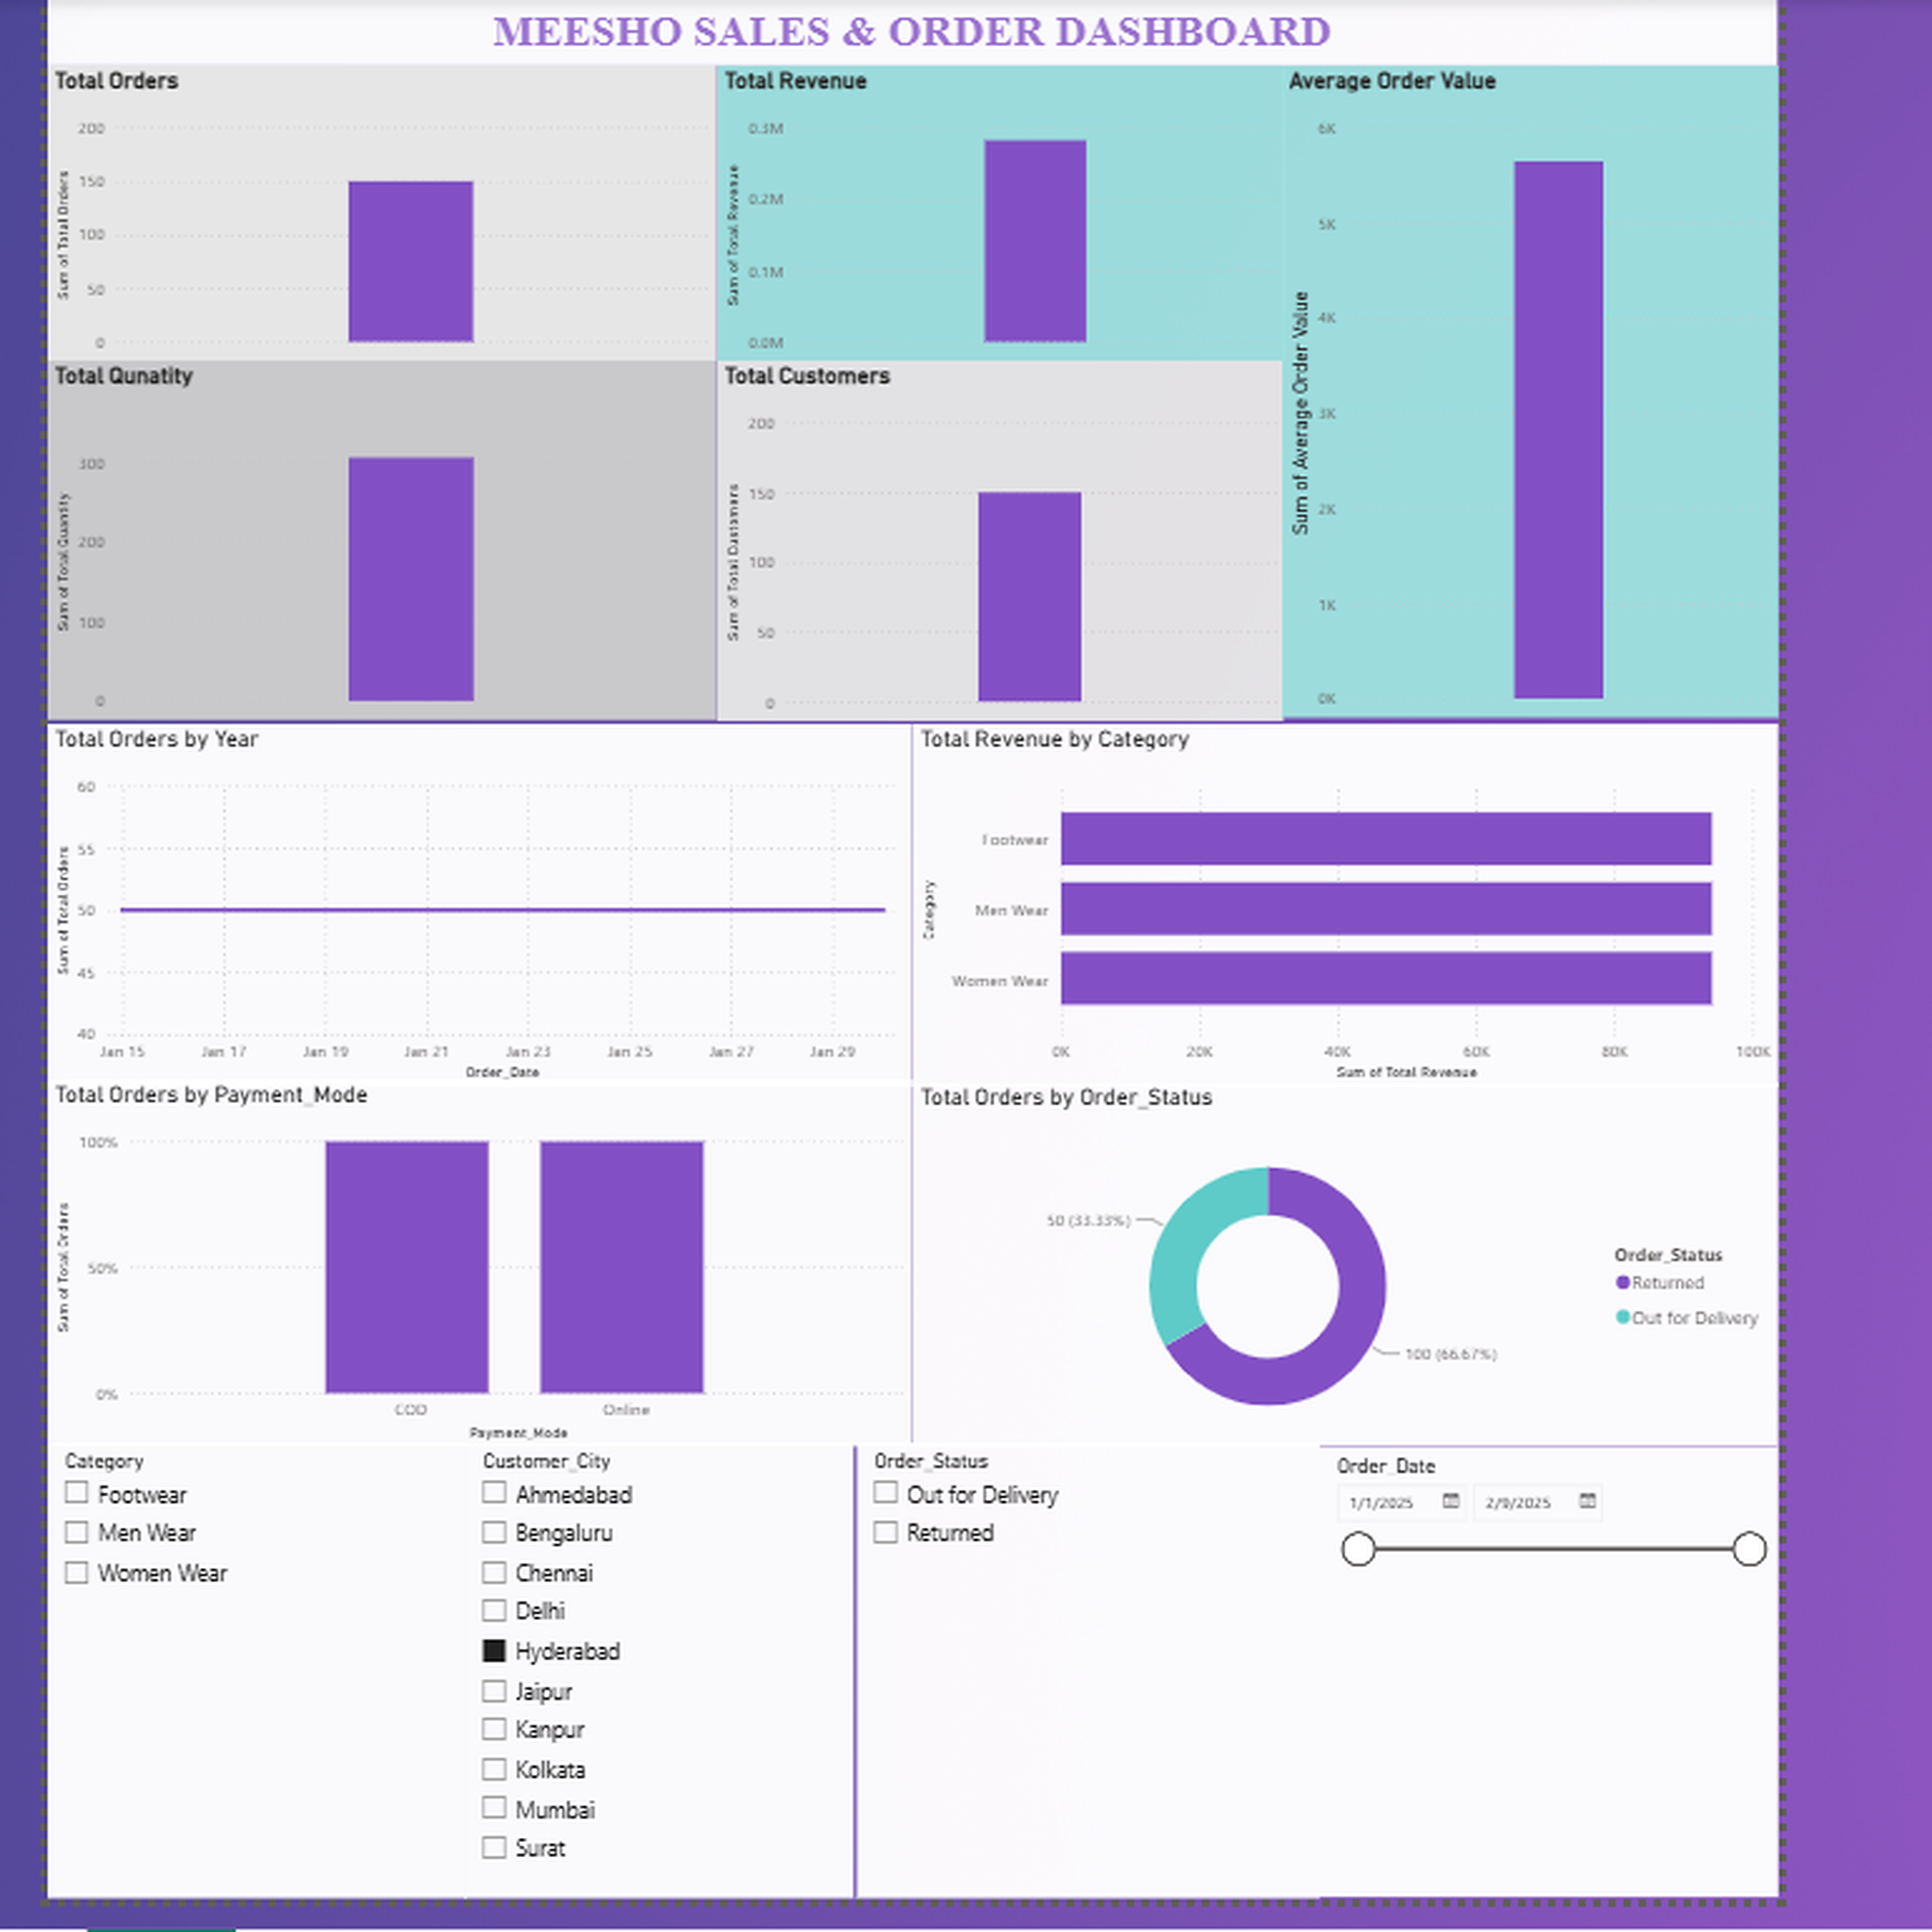

The dashboard page shown, as its layout file describes it:
{"tool":"powerbi","page":{"name":"Page 1","canvas":[1280,1400],"ordinal":0},"visuals":[{"type":"clusteredColumnChart","title":"Total Orders","fields":{"Y":["Sum(meesho_order_data_2025_50rows.Total Orders)"]},"box":[0,50,495,217.5],"z":0},{"type":"clusteredColumnChart","title":"Total Qunatity","fields":{"Y":["Sum(meesho_order_data_2025_50rows.Total Quantity)"]},"box":[0,266.7,495.6,264.4],"z":1000},{"type":"clusteredColumnChart","title":" Total Revenue","fields":{"Y":["Sum(meesho_order_data_2025_50rows.Total Revenue)"]},"box":[495,50,420,217.5],"z":2000},{"type":"clusteredColumnChart","title":" Total Customers","fields":{"Y":["Sum(meesho_order_data_2025_50rows.Total Customers)"]},"box":[495,266.2,418.8,265],"z":3000},{"type":"clusteredColumnChart","title":" Average Order Value","fields":{"Y":["Sum(meesho_order_data_2025_50rows.Average Order Value)"]},"box":[912.5,50,367.5,480],"z":4000},{"type":"lineChart","title":" Total Orders by Year","fields":{"Y":["Sum(meesho_order_data_2025_50rows.Total Orders)"],"Category":["meesho_order_data_2025_50rows.Order_Date"]},"box":[0,535,640,267.5],"z":5000},{"type":"clusteredBarChart","title":" Total Revenue by Category","fields":{"Category":["meesho_order_data_2025_50rows.Category"],"Y":["Sum(meesho_order_data_2025_50rows.Total Revenue)"]},"box":[640,535,640,267.5],"z":6000},{"type":"donutChart","title":"Total Orders by Order_Status","fields":{"Category":["meesho_order_data_2025_50rows.Order_Status"],"Y":["Sum(meesho_order_data_2025_50rows.Total Orders)"]},"box":[640,800,640,267.5],"z":6001},{"type":"hundredPercentStackedColumnChart","title":" Total Orders by Payment_Mode","fields":{"Category":["meesho_order_data_2025_50rows.Payment_Mode"],"Y":["Sum(meesho_order_data_2025_50rows.Total Orders)"]},"box":[0,797.5,640,270],"z":6002},{"type":"slicer","fields":{"Values":["meesho_order_data_2025_50rows.Category"]},"box":[0,1065,310,335],"z":6003},{"type":"slicer","fields":{"Values":["meesho_order_data_2025_50rows.Customer_City"]},"box":[310,1065,287.5,335],"z":6004},{"type":"slicer","fields":{"Values":["meesho_order_data_2025_50rows.Order_Status"]},"box":[597.5,1065,342.5,335],"z":6005},{"type":"slicer","fields":{"Values":["meesho_order_data_2025_50rows.Order_Date"]},"box":[941,1068,339,332],"z":6006},{"type":"textbox","box":[0,0,1280,50],"z":6007}]}

Visuals, with their boxes in screenshot pixels (x1, y1, x2, y2):
"Total Orders" clusteredColumnChart: region(40, 58, 714, 354)
"Total Qunatity" clusteredColumnChart: region(40, 353, 715, 713)
" Total Revenue" clusteredColumnChart: region(714, 58, 1285, 354)
" Total Customers" clusteredColumnChart: region(714, 352, 1284, 713)
" Average Order Value" clusteredColumnChart: region(1282, 58, 1782, 711)
" Total Orders by Year" lineChart: region(40, 718, 911, 1082)
" Total Revenue by Category" clusteredBarChart: region(911, 718, 1782, 1082)
"Total Orders by Order_Status" donutChart: region(911, 1079, 1782, 1443)
" Total Orders by Payment_Mode" hundredPercentStackedColumnChart: region(40, 1075, 911, 1443)
slicer - meesho_order_data_2025_50rows.Category: region(40, 1439, 462, 1895)
slicer - meesho_order_data_2025_50rows.Customer_City: region(462, 1439, 853, 1895)
slicer - meesho_order_data_2025_50rows.Order_Status: region(853, 1439, 1320, 1895)
slicer - meesho_order_data_2025_50rows.Order_Date: region(1321, 1443, 1782, 1895)
textbox: region(40, 0, 1782, 58)
